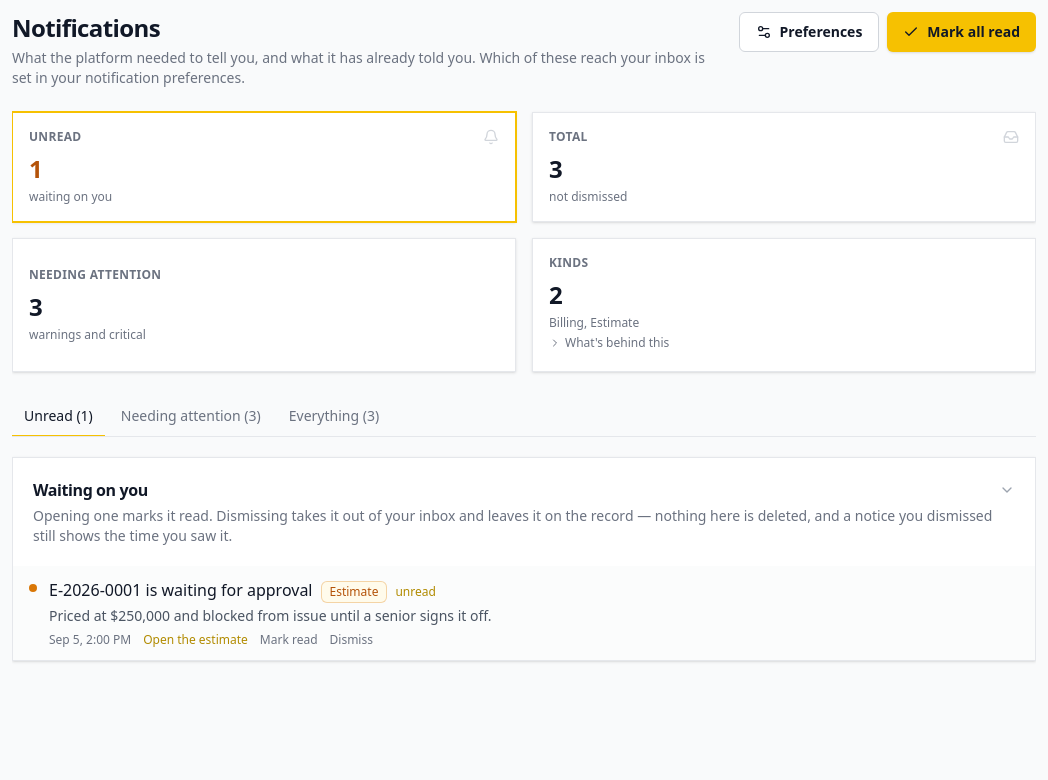
Test case: the notifications screen › breaks the kinds count down instead of leaving it a number
Click the button with aria-label "What is behind Kinds" at (569, 262), box top-left (549, 255), bottom-right (1019, 351)
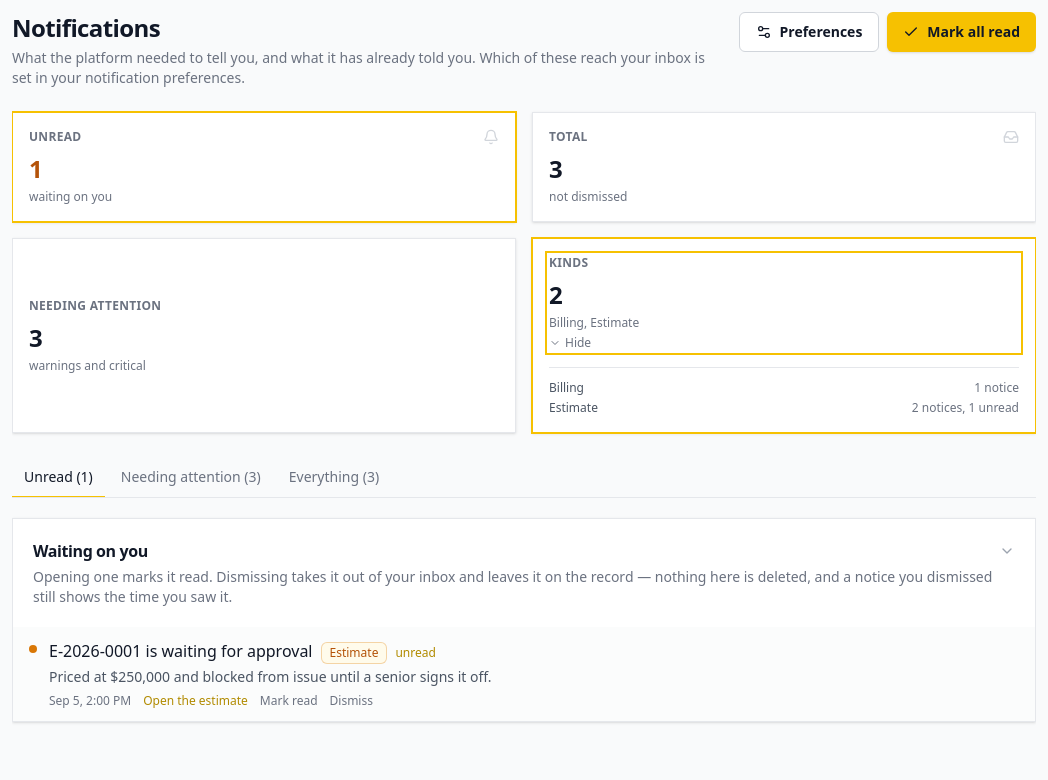
expect the text "2 notices, 1 unread" is shown: met, box top-left (912, 400), bottom-right (1019, 416)
expect the text "1 notice" is shown: met, box top-left (974, 380), bottom-right (1019, 396)
